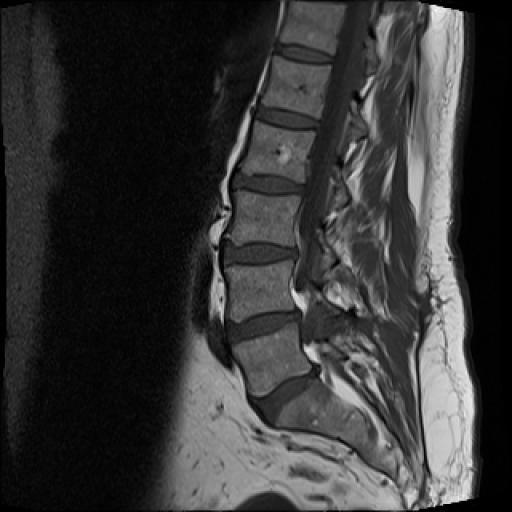L1: (259, 56, 333, 122)
L2: (242, 121, 315, 182)
L3: (225, 190, 302, 248)
L4: (225, 260, 295, 322)
L5: (231, 323, 313, 396)
S1: (273, 379, 355, 438)
